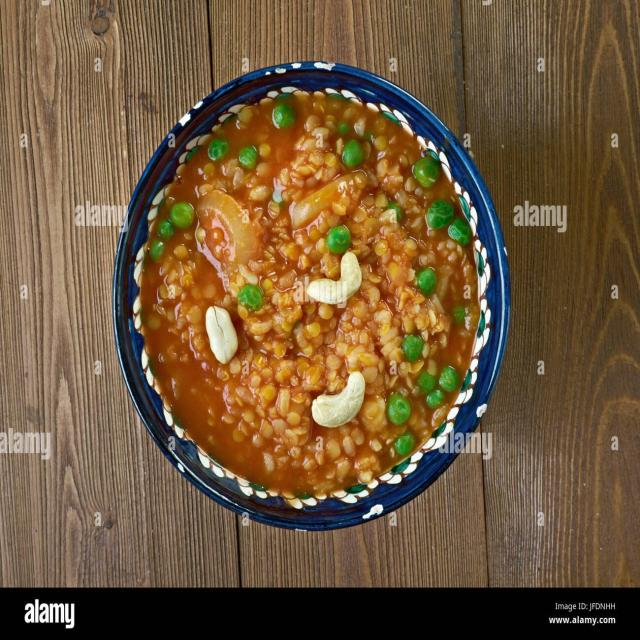bisibele bath: (99, 49, 530, 548)
